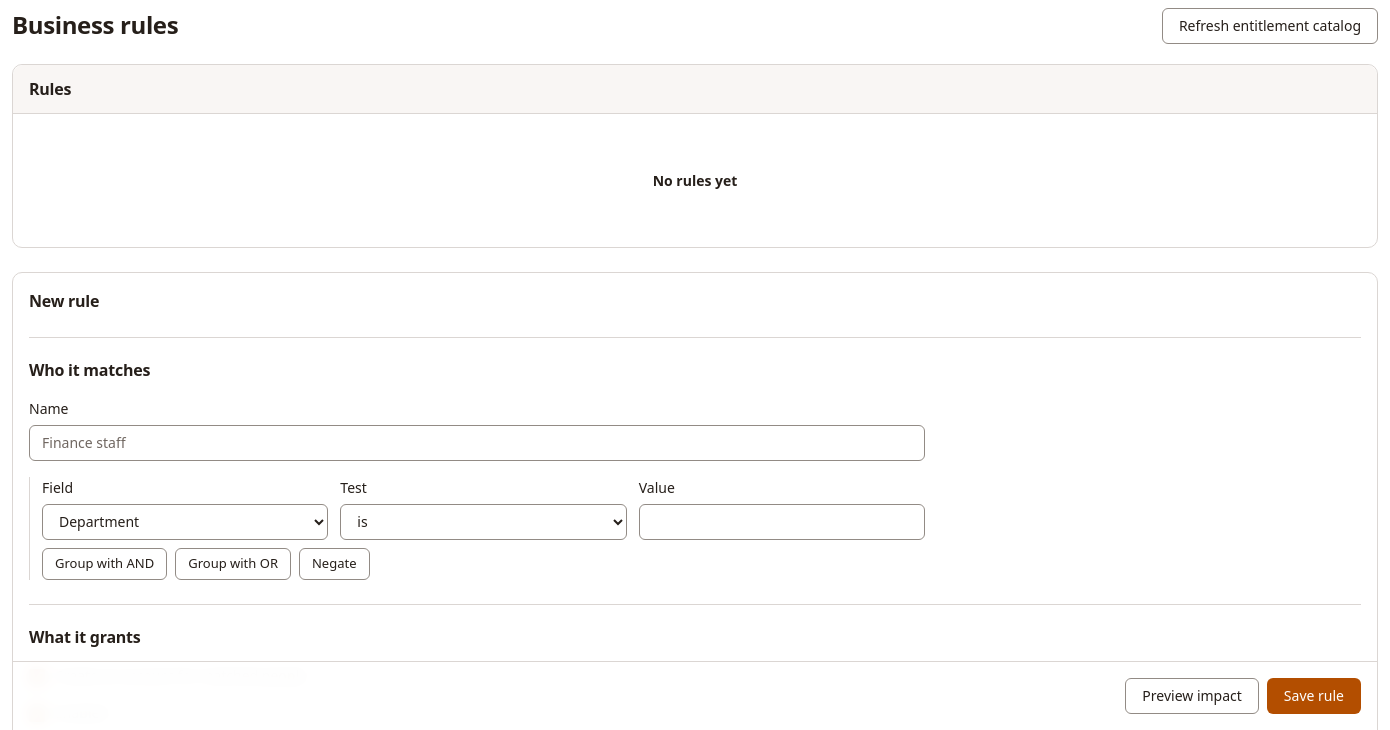
Scenario: BusinessRulesPage › clears impact after editing Finance
The width and height of the screenshot is (1390, 730).
Click the button "Preview impact": (1192, 696) [1125,678,1259,714]
(page scrolled)
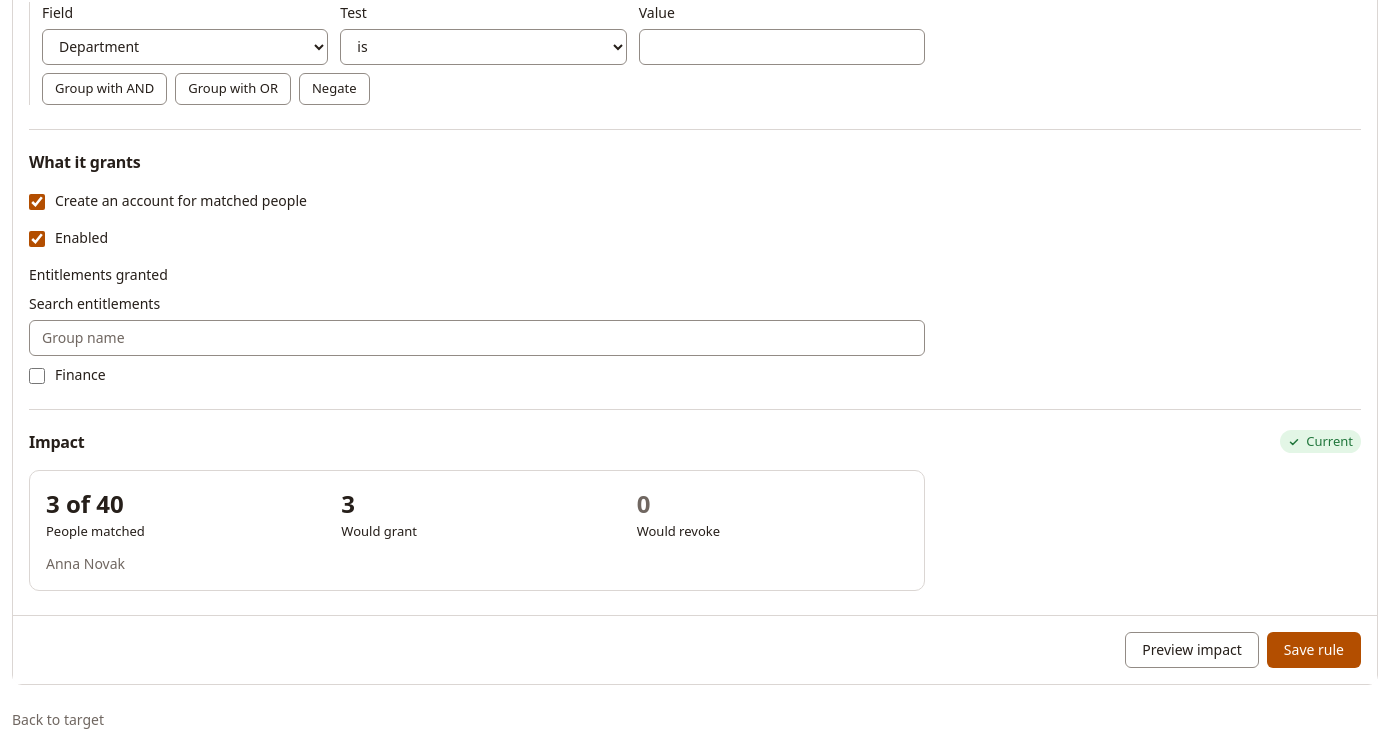
expect the text "People matched" is shown: met, box [46,522,145,540]
Click the checkbox labelled "Finance": (37, 376) [29,368,45,384]
(page scrolled)
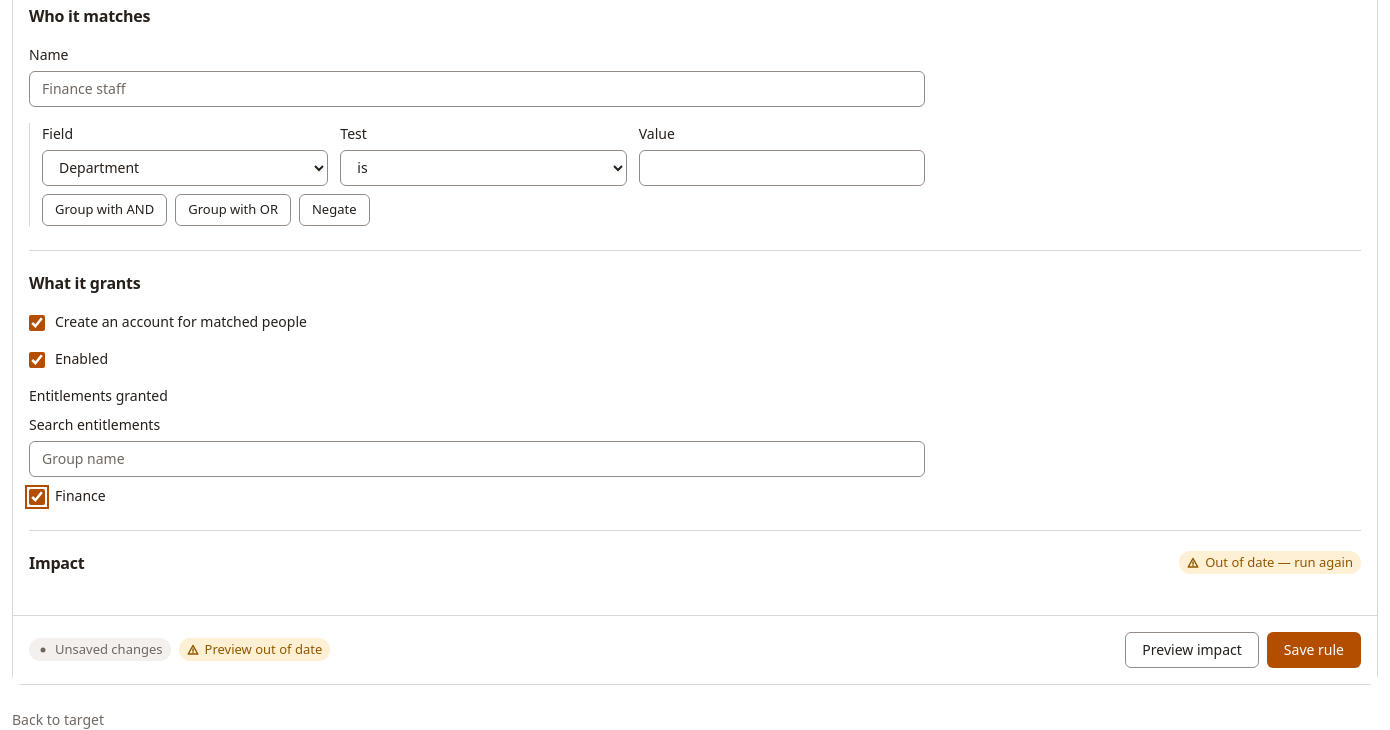
expect the text "People matched" is gone: met
